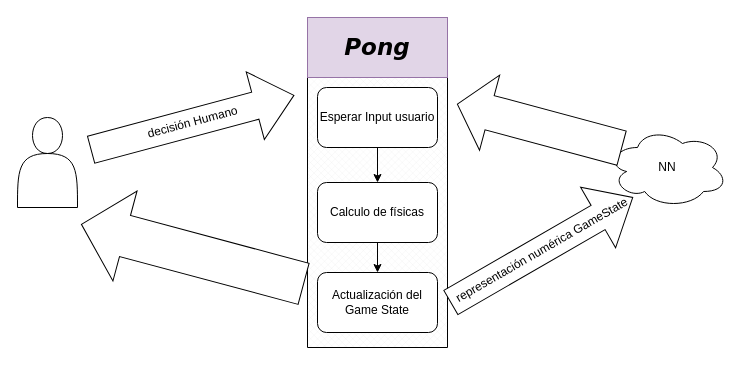
Some shapes in this 745 by 365 pixel diagram are drawn without their labels. The box of each missing label's shape, as (x1, y1, x2, y2) in pixels:
Humano: (16, 116, 78, 208)
output NN: (446, 65, 632, 186)
representación gráfica GameState: (68, 178, 316, 329)
